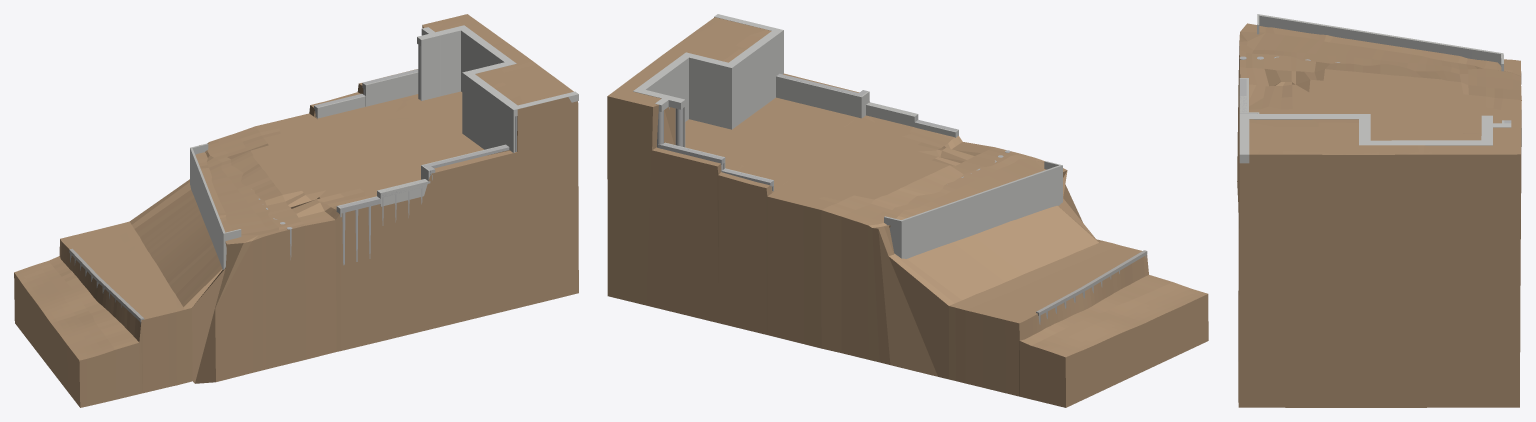
Rendered from shotcrete.glb.
3 renders of one model, left to right at view 1: azimuth 30°, elevation 25°; view 2: azimuth 150°, elevation 25°; view 3: azimuth 270°, elevation 25°, orthographic. The views are drawn at different scales.
Parts seen in each view (by area): view 1: Terrain 07 - SPW2+3.006, Shotcrete--SP4.001, Retaining wall.002, CB1-RL10.008, CB1-RL9.027, CB1-RL9.023, Cube.124, CB1-RL9.017; view 2: Terrain 07 - SPW2+3.006, Shotcrete--SP4.001, Retaining wall.002, CB1-RL9.026, Cube.124, CB1-RL9.027; view 3: Terrain 07 - SPW2+3.006, Retaining wall.002, Shotcrete--SP4.001.
Part boxes in pixels (<box>): Terrain 07 - SPW2+3.006: <box>14,14,578,407</box>; Shotcrete--SP4.001: <box>417,25,578,152</box>; Retaining wall.002: <box>190,143,241,269</box>; CB1-RL10.008: <box>365,72,418,106</box>; CB1-RL9.027: <box>377,179,430,206</box>; CB1-RL9.023: <box>316,95,365,118</box>; Cube.124: <box>69,248,144,321</box>; CB1-RL9.017: <box>423,145,509,175</box>; Terrain 07 - SPW2+3.006: <box>607,17,1208,407</box>; Shotcrete--SP4.001: <box>633,14,783,147</box>; Retaining wall.002: <box>884,161,1062,258</box>; CB1-RL9.026: <box>776,76,869,118</box>; Cube.124: <box>1036,250,1147,315</box>; CB1-RL9.027: <box>866,102,918,127</box>; Terrain 07 - SPW2+3.006: <box>1237,23,1521,407</box>; Retaining wall.002: <box>1257,14,1503,71</box>; Shotcrete--SP4.001: <box>1239,114,1511,163</box>.
Size of the model in its own units: 45.82 by 17.66 by 17.99.
